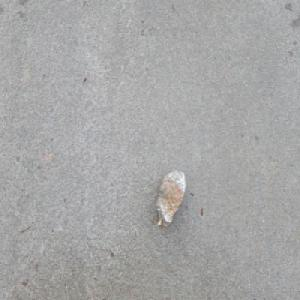Rock: (155, 167, 186, 228)
